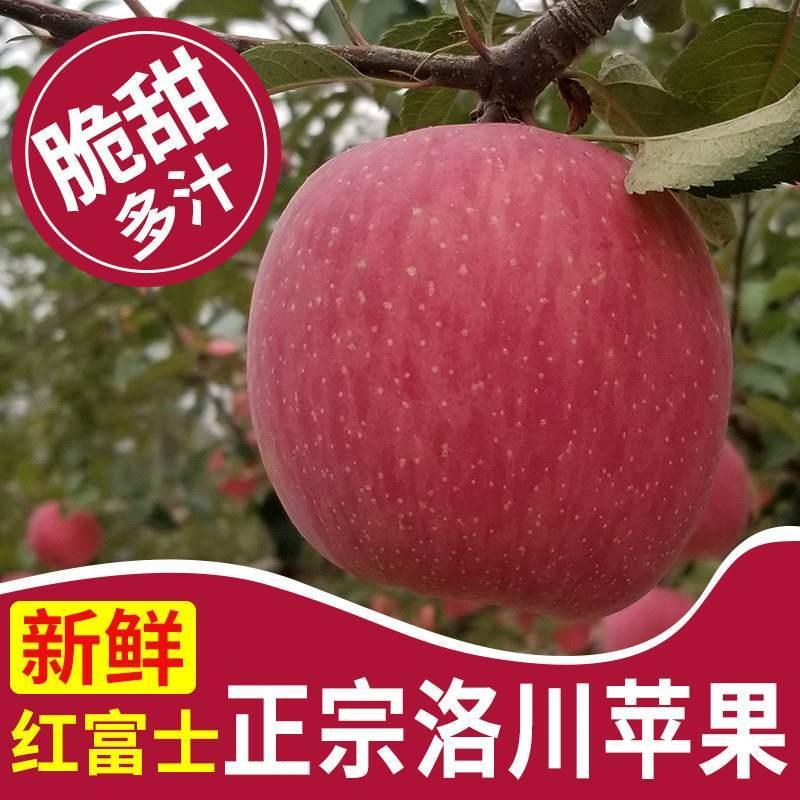apple: (250, 129, 734, 623)
